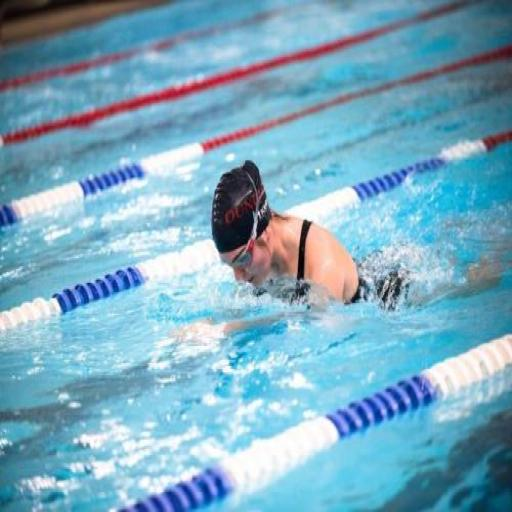swimming: (178, 157, 511, 346)
